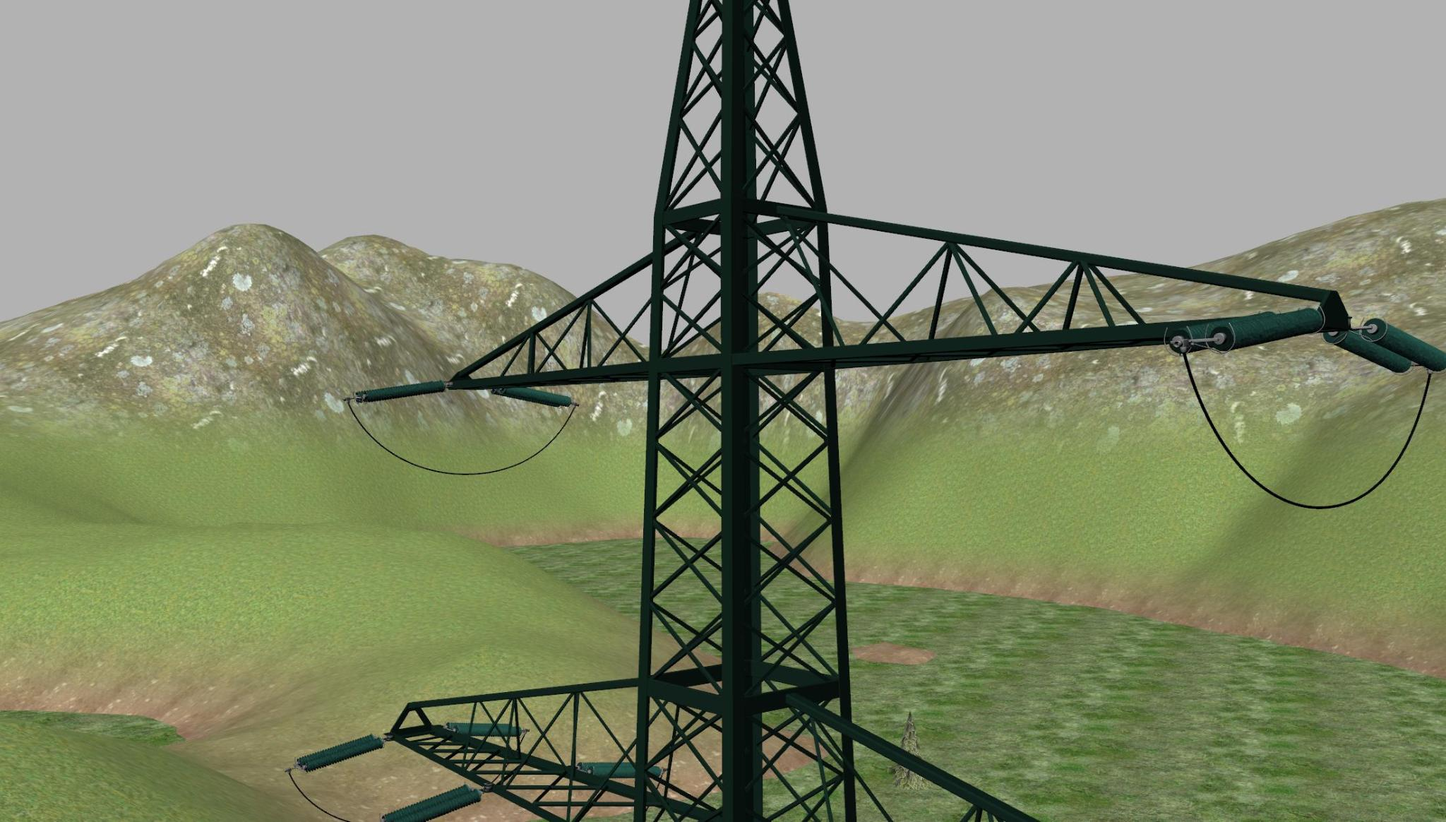tower: (378, 1, 1346, 822)
